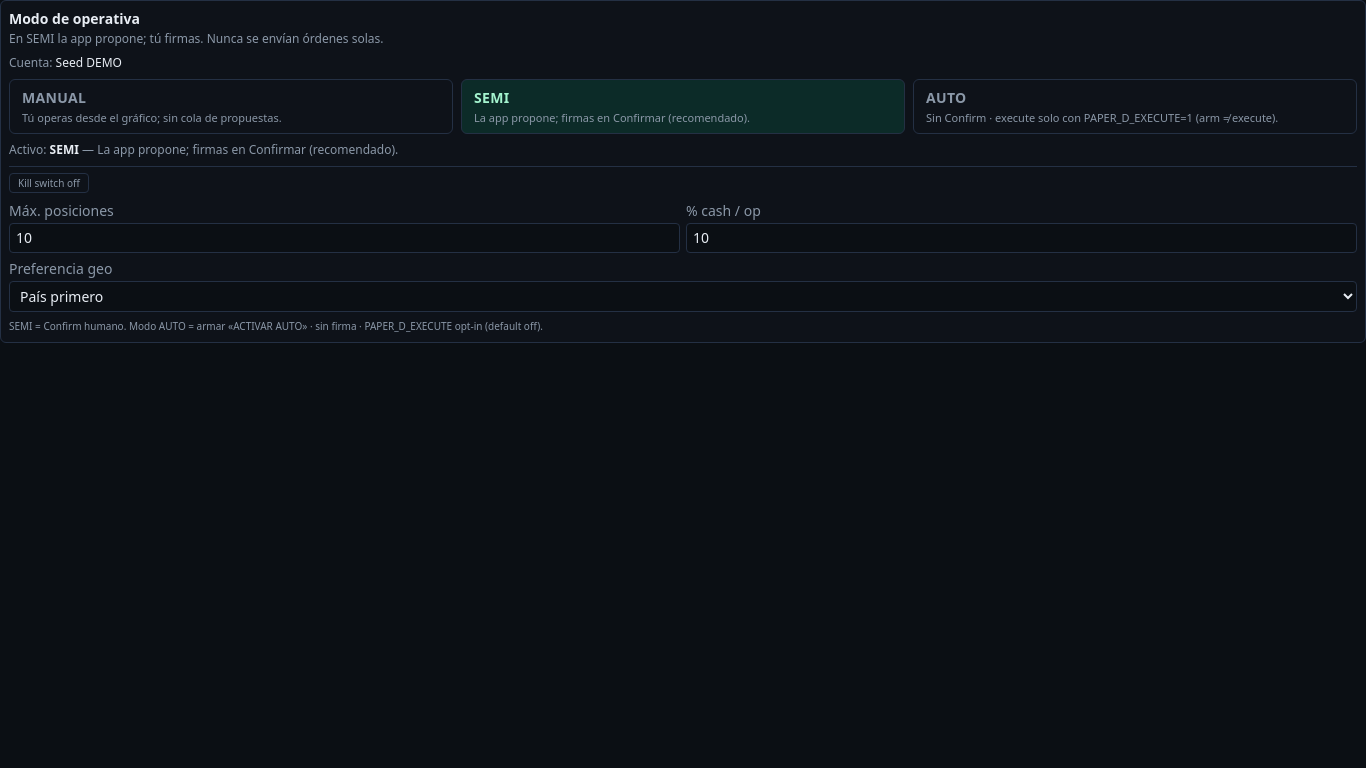
Scenario: DemoBookModePanel A3-wire › Auto click without arm opens form and does not persist auto
This screenshot has width=1366, height=768.
Click the button with test id "demo-book-auto-pill": (946, 98) [913, 79, 1357, 134]
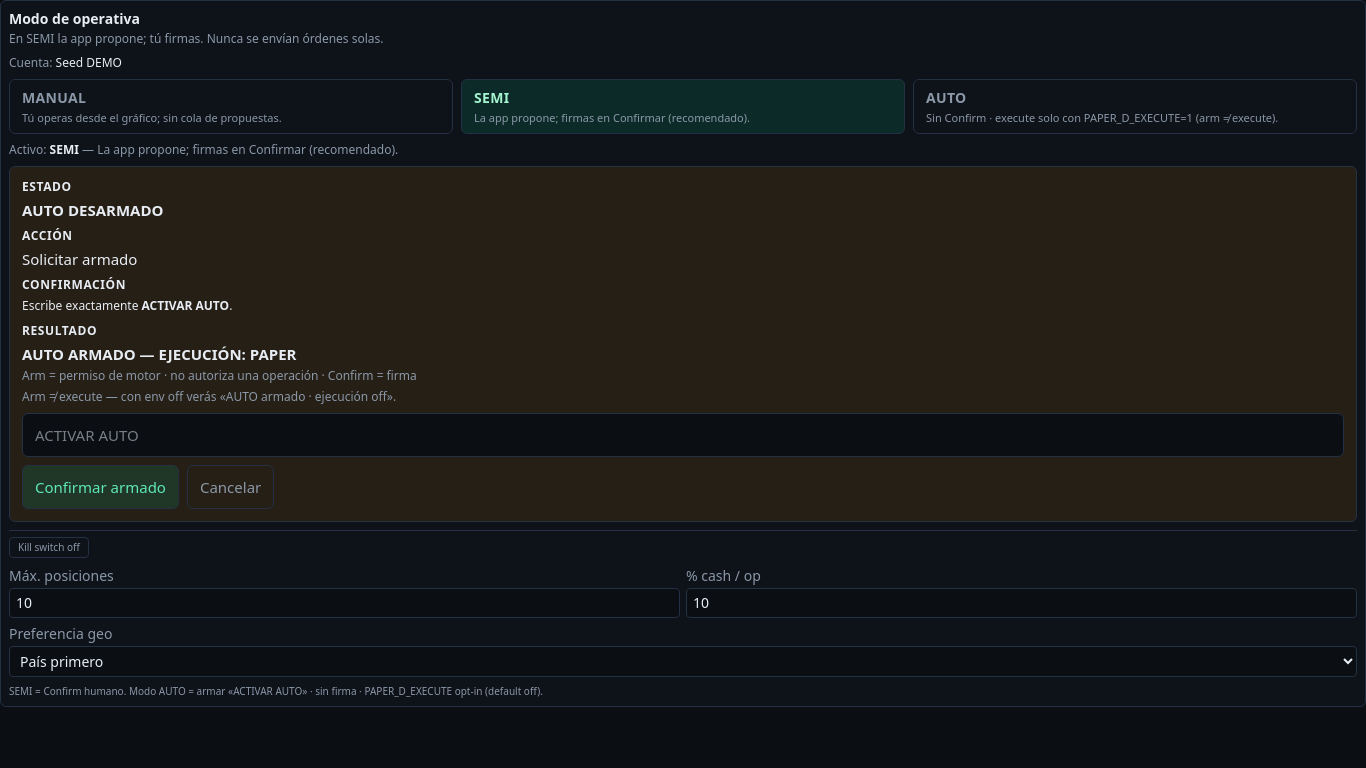
Expected: the element with test id "demo-book-auto-arm-form" is shown, [9, 166, 1357, 522]
